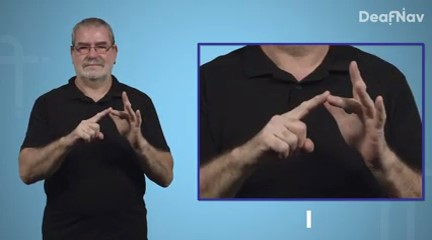I: (254, 57, 395, 175), (69, 88, 147, 150)
